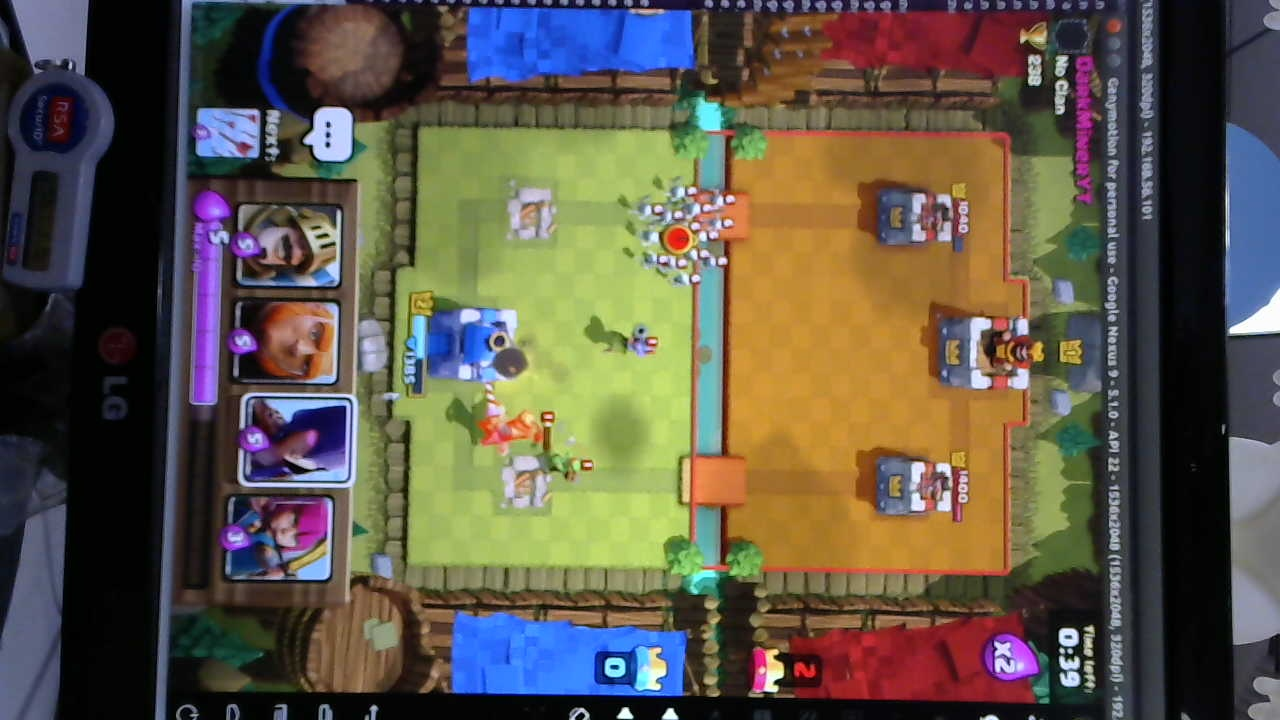darena: (502, 180, 559, 249), (499, 448, 554, 512)
earena: (875, 453, 954, 520), (878, 187, 957, 251)
eking: (940, 312, 1038, 391)
king: (432, 308, 523, 386)
musketeer: (617, 321, 659, 362)
prince: (480, 386, 540, 448)
skeletonarmy: (628, 182, 738, 287)
speargoblin: (544, 449, 594, 491)
